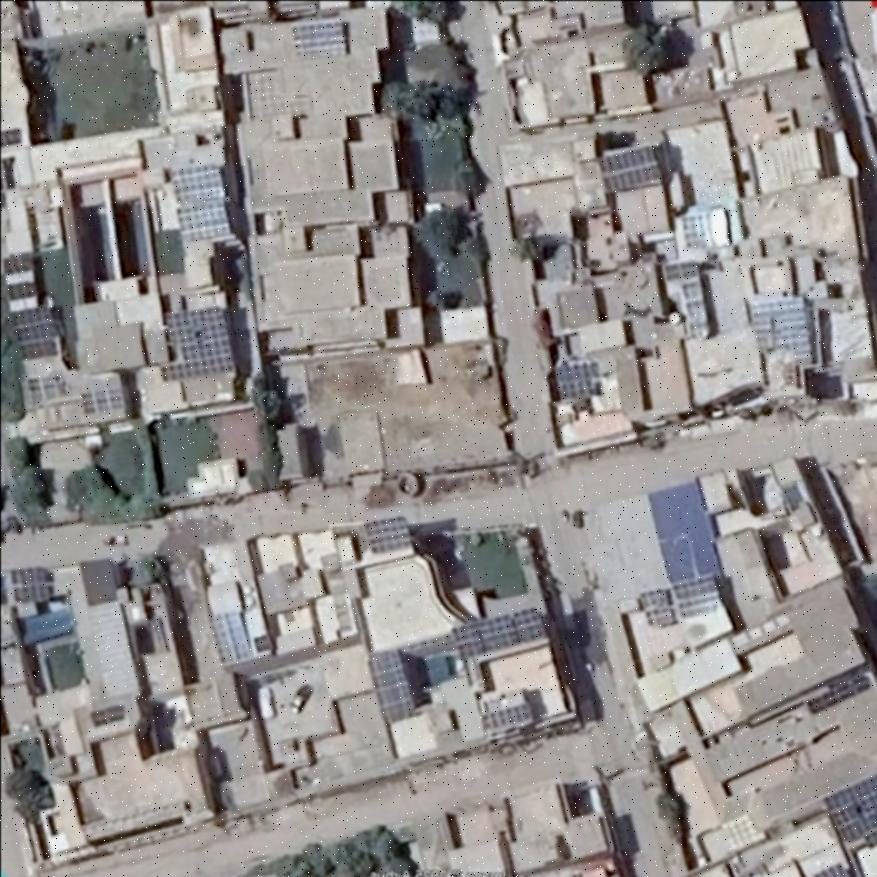Solarpanel: (155, 311, 233, 381), (452, 607, 545, 659), (745, 295, 811, 364), (818, 769, 877, 842), (170, 163, 226, 237), (368, 645, 416, 717), (595, 142, 661, 192), (9, 301, 57, 359), (209, 612, 249, 665), (294, 21, 345, 57), (671, 577, 715, 617), (366, 514, 410, 550), (10, 567, 53, 601), (555, 362, 591, 399), (482, 704, 531, 728), (644, 588, 675, 624), (680, 283, 705, 318), (665, 260, 697, 278), (806, 863, 849, 876)
